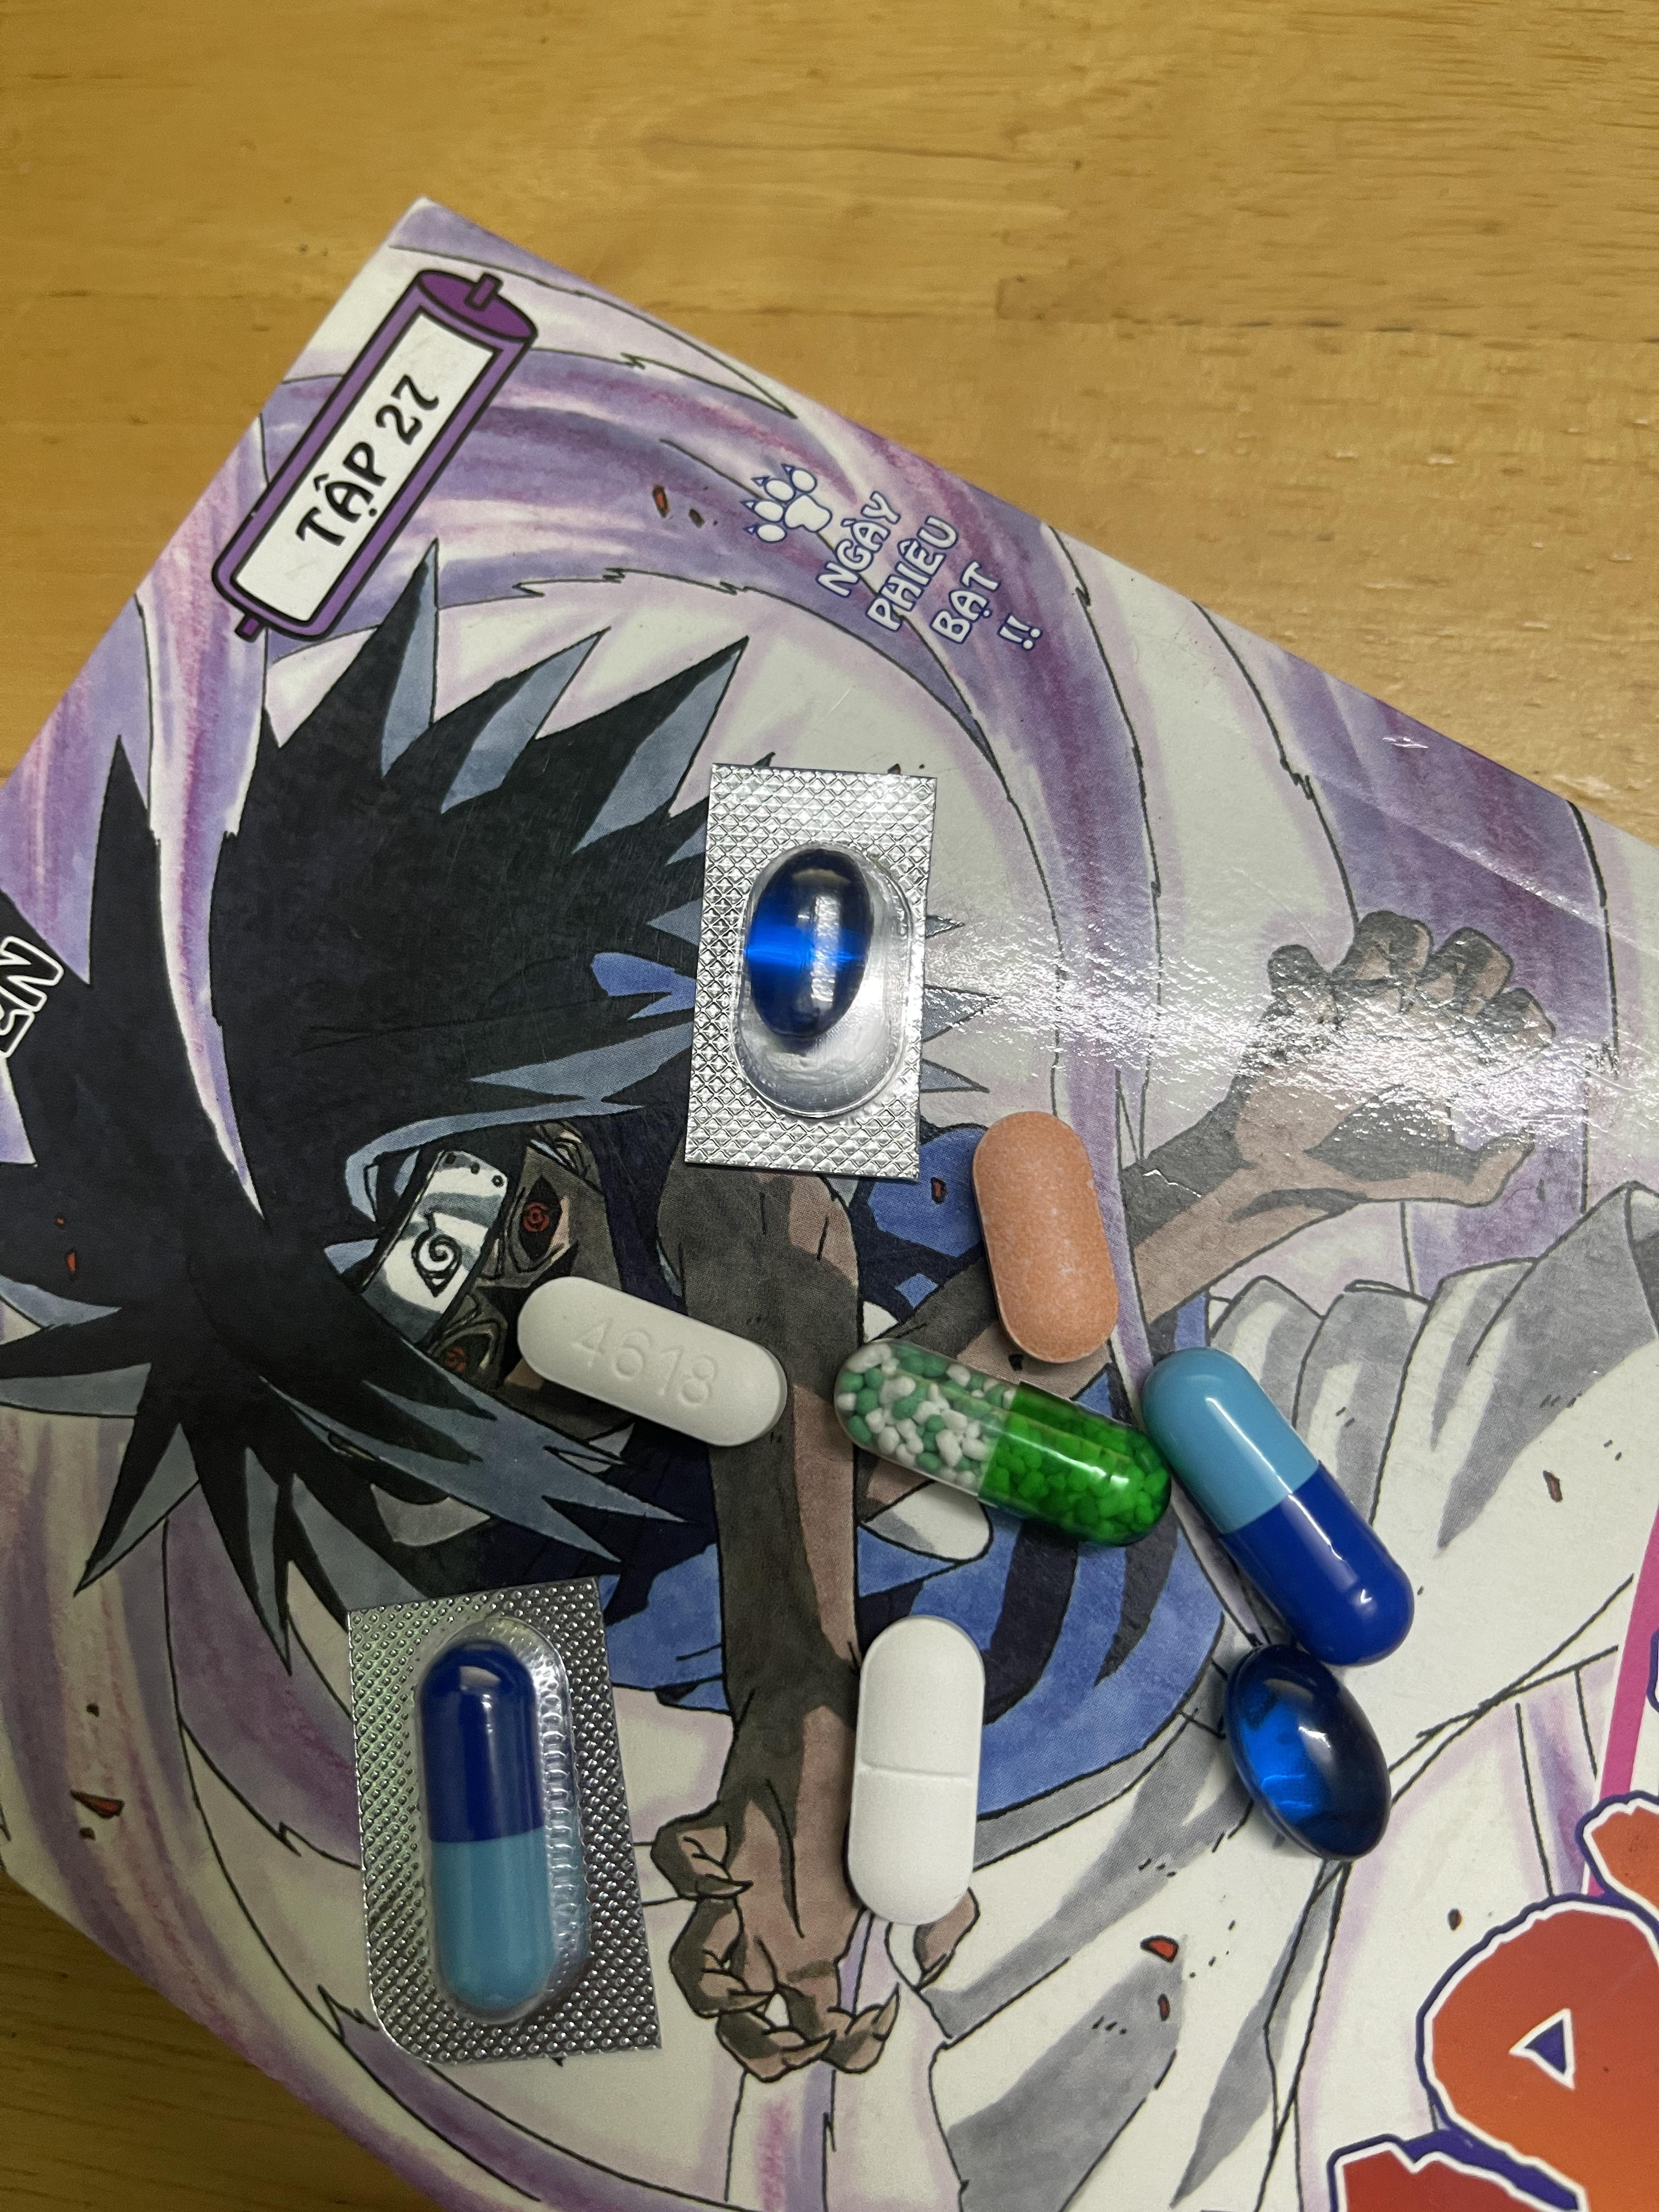Lincomyxin_500mg: (1232, 1667, 1392, 1860), (746, 857, 871, 1042)
Loratadine_10mg: (967, 1118, 1119, 1362)
Paracetamol_350mg: (847, 1613, 985, 1930)
Paracetamol_500mg: (516, 1273, 786, 1451)
Paracetamol_650mg: (828, 1338, 1159, 1540)
pill: (1147, 1357, 1417, 1665), (425, 1653, 547, 2012)
